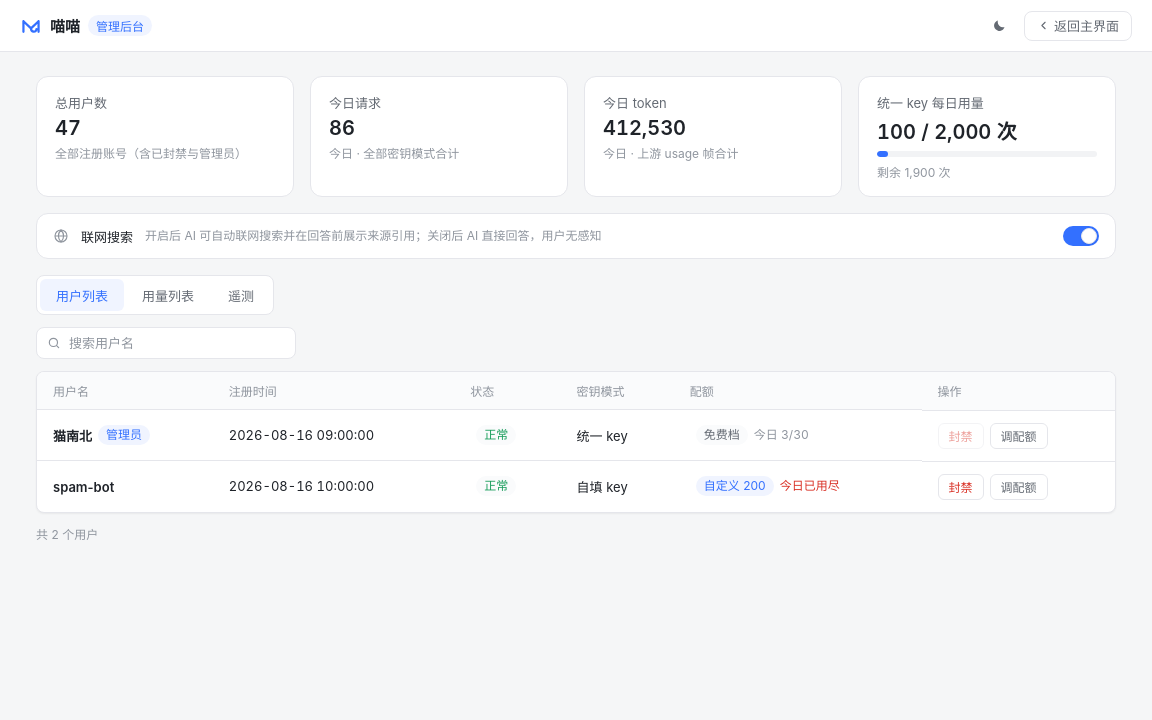
Test: 调配额模态（design-iter-12 §2 治理沿用，REQ-025 零回退） › DEF-028 销账断言面：默认档位副文案为回合计口径（CHG-007 REQ-024 改写，逐字）
Click the button with class "mini" in the row of "spam-bot" at {"x": 1018, "y": 486}, box [990, 474, 1048, 500]
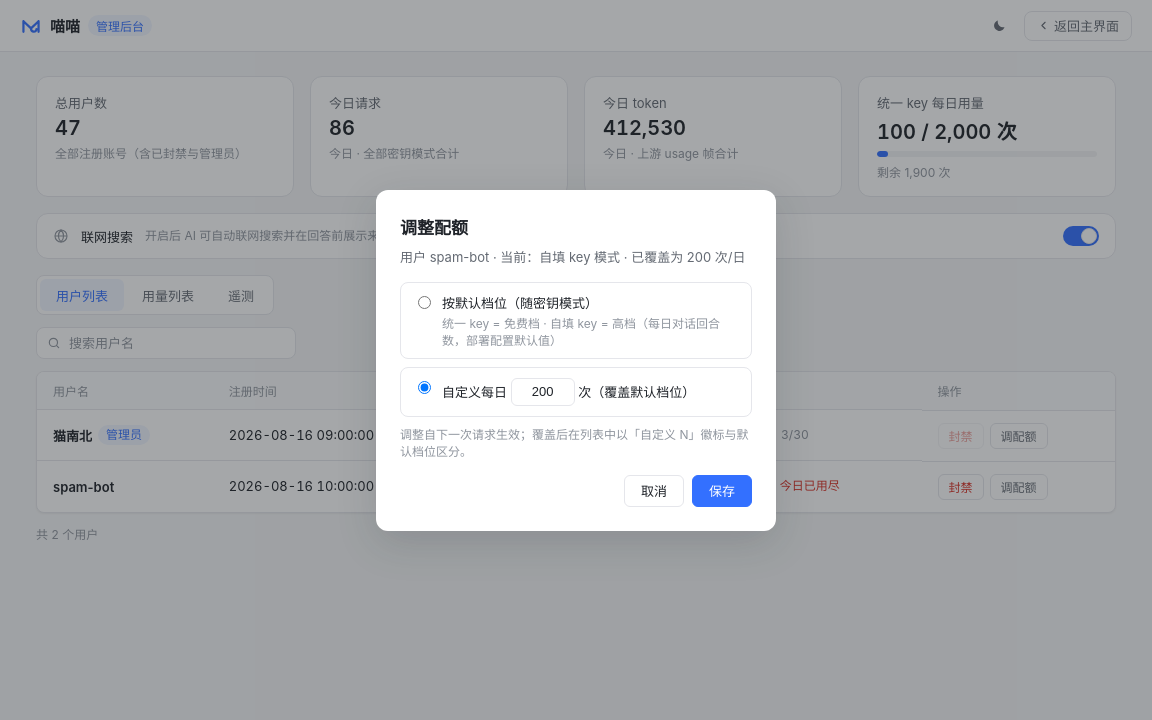
Result: the text "统一 key = 免费档 · 自填 key = 高档（每日对话回合数，部署配置默认值）" is shown at [442, 314, 739, 348]
